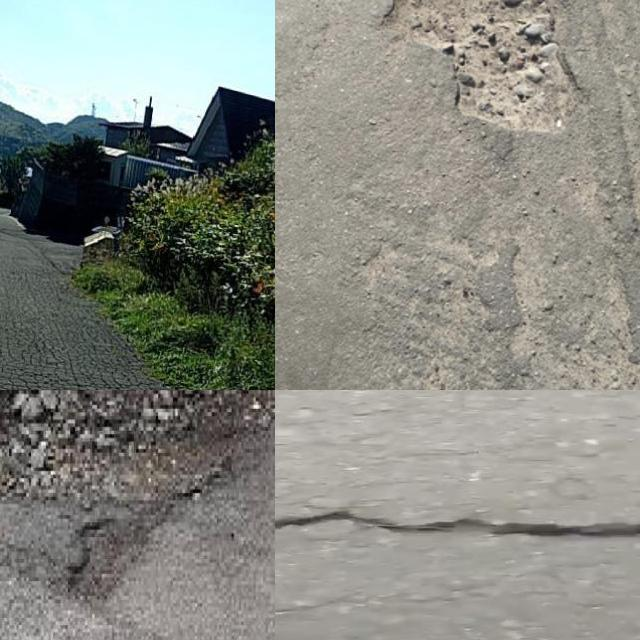Lubang: (0, 390, 275, 599), (376, 0, 591, 139)
Melintang: (275, 495, 640, 552)
Retak Buaya: (0, 265, 171, 390)
